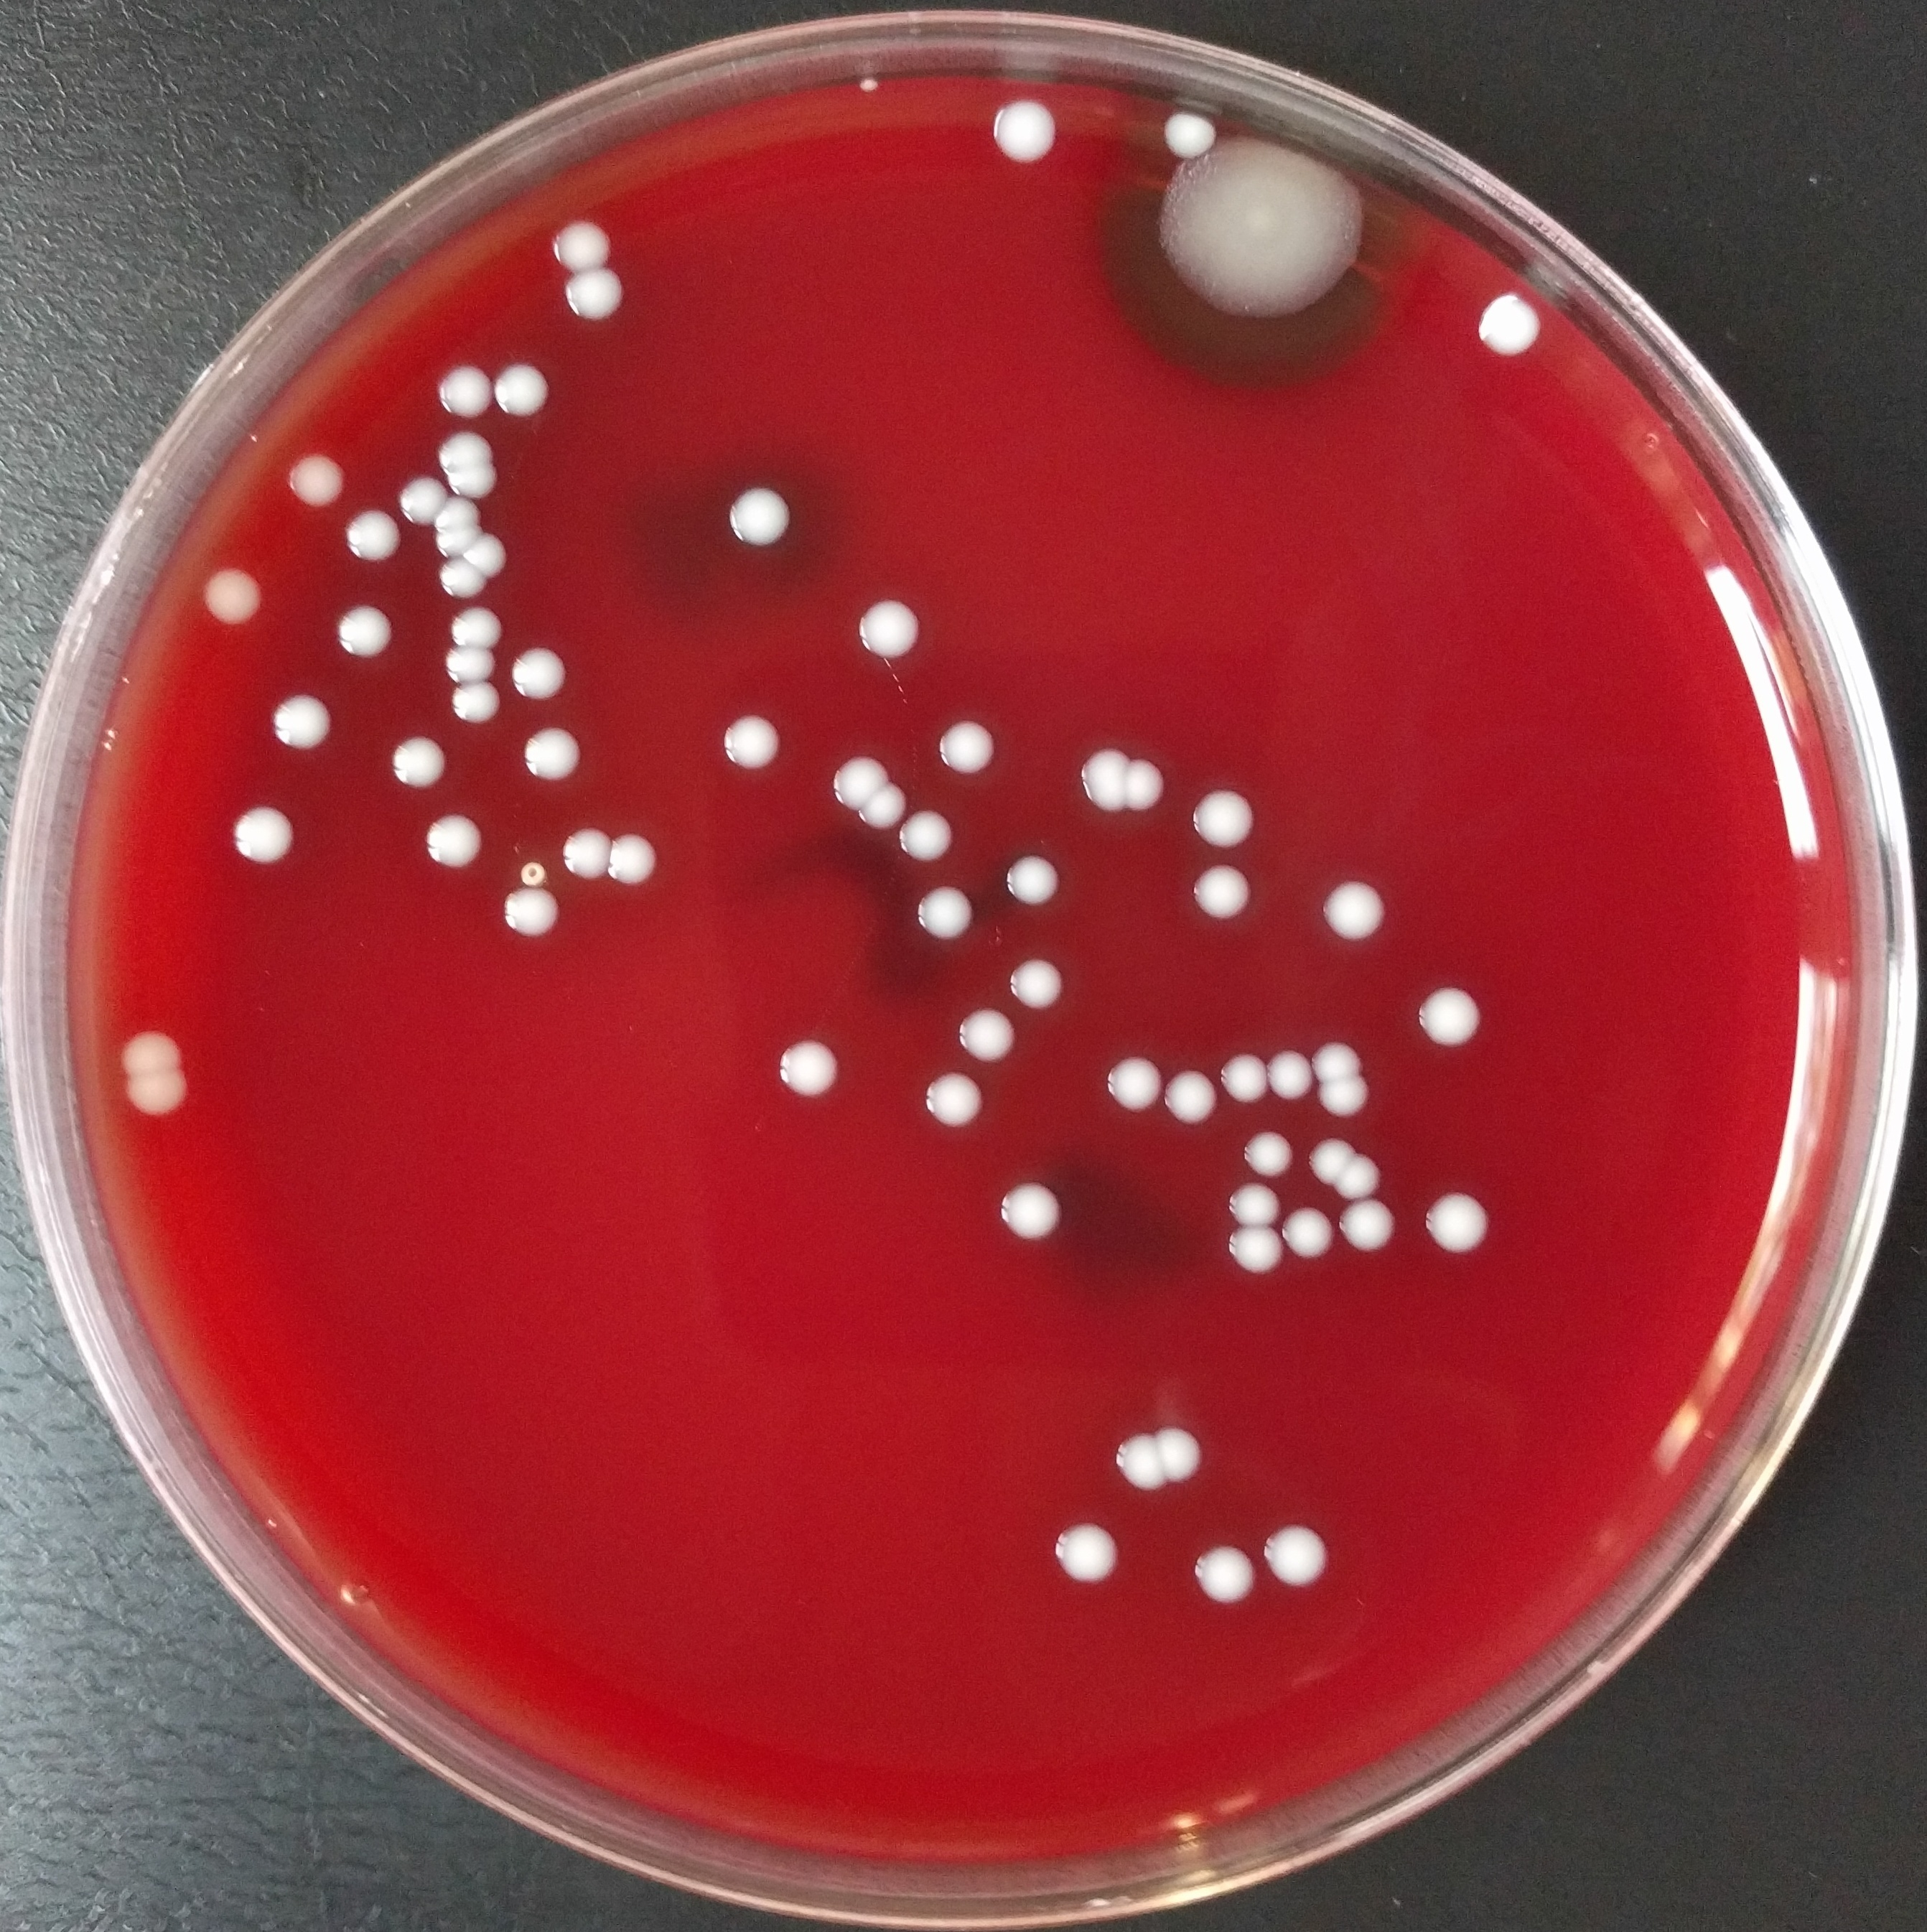sp01: (1009, 1493, 1138, 1599), (971, 1164, 1113, 1247), (1172, 764, 1279, 859), (718, 462, 801, 570), (1182, 1530, 1279, 1620), (1445, 270, 1546, 356), (1410, 965, 1489, 1069), (971, 81, 1068, 164), (416, 798, 510, 882), (715, 699, 801, 789), (1256, 1516, 1359, 1588), (526, 199, 632, 268), (831, 596, 928, 669), (882, 787, 963, 872), (381, 723, 468, 803), (222, 787, 300, 875), (1179, 863, 1272, 935), (1087, 1419, 1173, 1494), (764, 1025, 854, 1097), (891, 880, 990, 946), (185, 558, 270, 633), (540, 266, 642, 328), (261, 678, 341, 757), (1151, 1419, 1233, 1494), (512, 713, 598, 785), (115, 1007, 191, 1087), (1293, 1119, 1368, 1200), (909, 1064, 1004, 1126), (605, 810, 678, 891), (948, 997, 1036, 1062), (487, 870, 574, 935), (282, 443, 358, 517), (1325, 870, 1394, 949), (999, 947, 1078, 1016), (925, 713, 1004, 782), (111, 1067, 205, 1126), (431, 348, 496, 431), (1322, 1011, 1383, 1097), (1283, 1210, 1368, 1272), (1105, 1039, 1173, 1115), (328, 593, 397, 669), (487, 348, 556, 423), (508, 628, 574, 708), (1311, 1071, 1394, 1133), (1417, 1175, 1482, 1253), (1158, 1064, 1244, 1122), (810, 748, 896, 806), (441, 586, 510, 658), (1108, 734, 1170, 813), (431, 632, 514, 690), (1221, 1172, 1302, 1230), (1214, 1036, 1286, 1101), (551, 824, 625, 887), (1143, 92, 1219, 154), (1256, 1039, 1329, 1101), (995, 845, 1068, 907), (342, 501, 404, 573), (1233, 1106, 1292, 1180), (445, 674, 514, 736), (1336, 1200, 1398, 1265), (1062, 741, 1128, 803), (424, 547, 489, 609), (1332, 1145, 1401, 1203), (385, 462, 446, 526), (431, 415, 499, 469), (845, 780, 914, 831), (459, 526, 528, 577), (1221, 1221, 1286, 1272), (445, 466, 514, 498), (498, 845, 552, 882)
